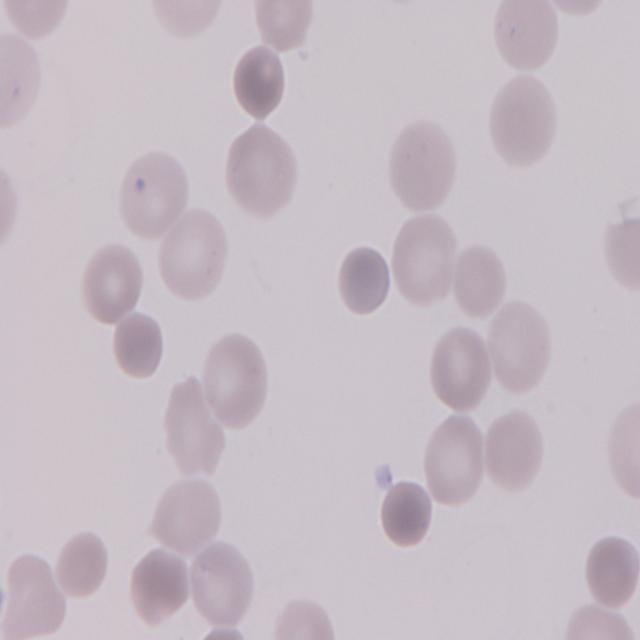RBC: (486, 66, 564, 172), (114, 142, 190, 243), (387, 112, 462, 214), (224, 122, 298, 225), (155, 204, 228, 308), (388, 210, 461, 311), (200, 331, 273, 432), (486, 298, 558, 397), (187, 536, 261, 626), (147, 470, 225, 553), (422, 412, 488, 510), (162, 376, 222, 478), (428, 324, 494, 416), (2, 546, 67, 638), (482, 406, 548, 496), (83, 239, 150, 325), (128, 542, 192, 626), (492, 0, 562, 76), (232, 42, 289, 125), (452, 238, 508, 322), (579, 533, 640, 610), (1, 26, 44, 125), (53, 526, 109, 600), (606, 393, 640, 509), (267, 595, 340, 640), (252, 0, 314, 51), (1, 0, 73, 41), (557, 604, 637, 640)
Spherocyte: (374, 478, 437, 552), (335, 240, 393, 320), (111, 310, 168, 379)
